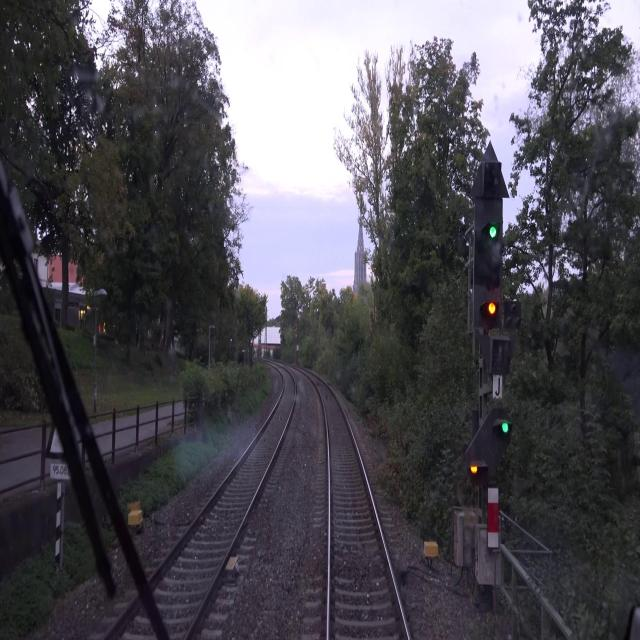rail-track: (164, 369, 294, 626), (315, 378, 406, 639)
